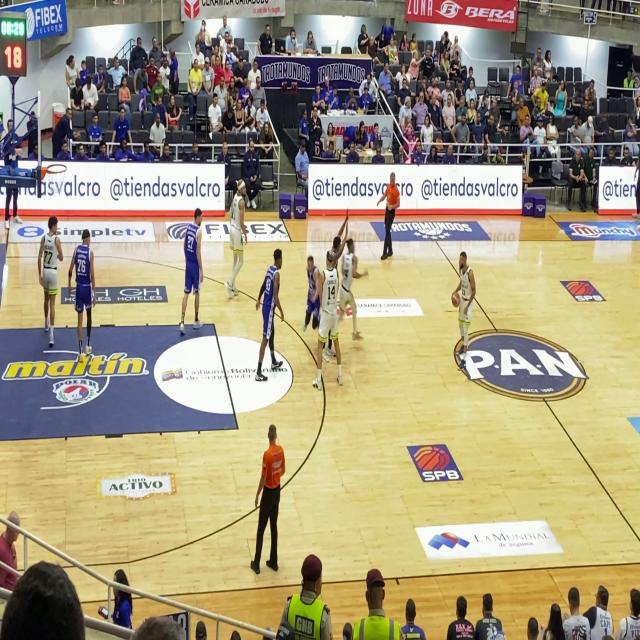Ball: (448, 291, 464, 308)
referee: (258, 427, 288, 584), (379, 168, 401, 262)
team1: (314, 250, 348, 388), (450, 243, 482, 382), (35, 212, 64, 359), (224, 175, 252, 300), (345, 232, 362, 344)
team2: (251, 237, 286, 388), (177, 202, 207, 343), (70, 219, 100, 346), (298, 252, 324, 349)
ubasket: (44, 159, 70, 184)
